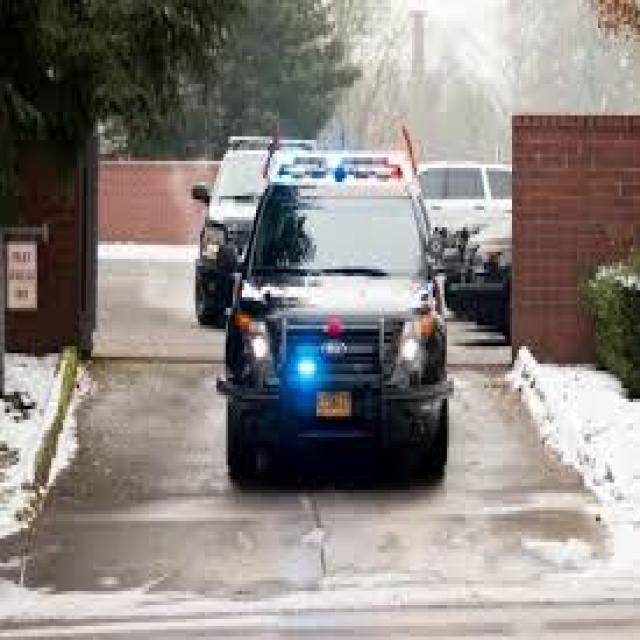cop: (225, 149, 454, 483)
